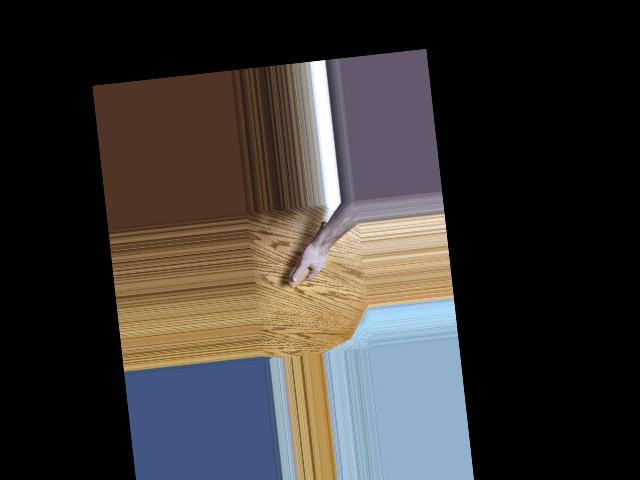sweet_potato: (281, 217, 338, 289)
